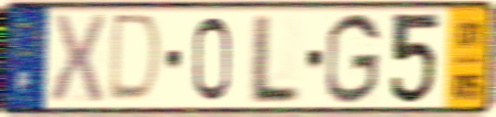0: (191, 13, 233, 104)
5: (387, 10, 446, 107)
D: (104, 11, 166, 107)
G: (323, 10, 383, 107)
L: (244, 11, 304, 106)
X: (47, 11, 109, 108)
